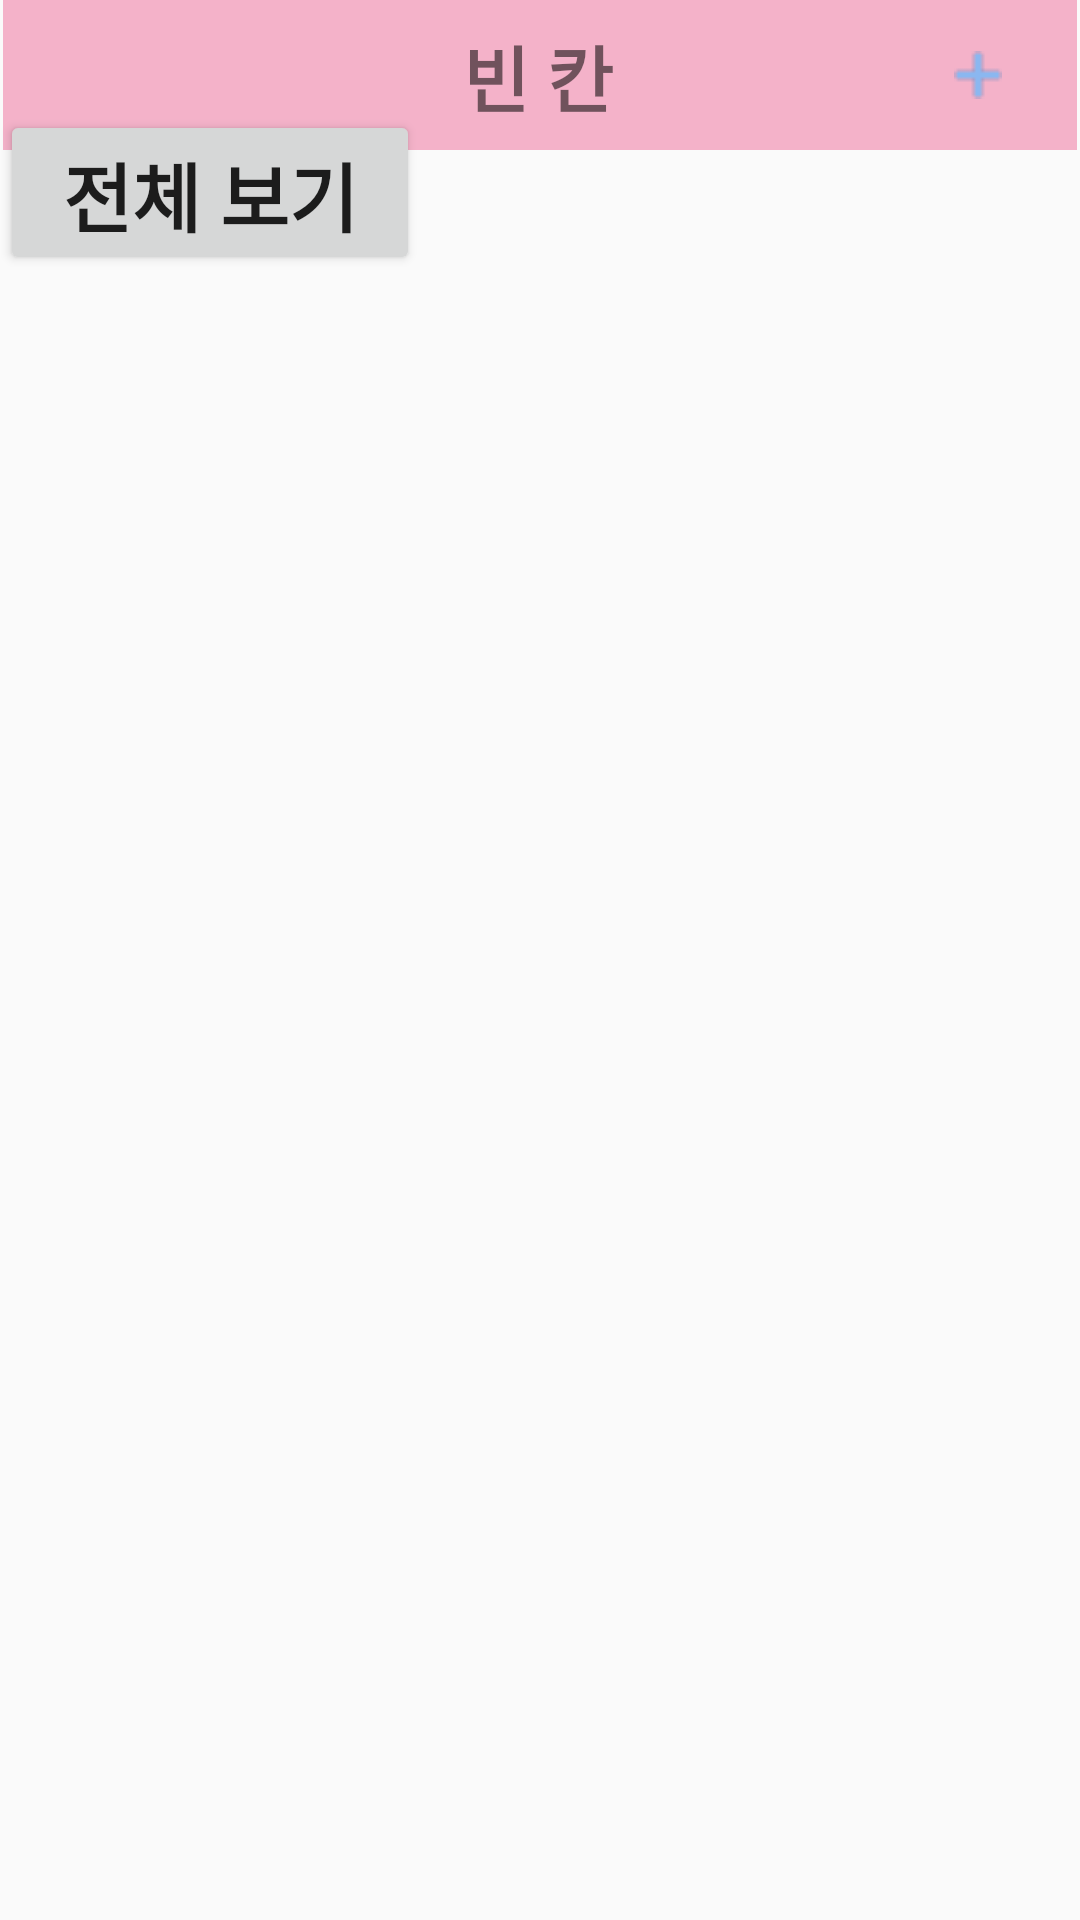

Where icons sit on this 1080 x 1920 app screen, as (x1, y1, x2, y2):
plus skyblue: (954, 51, 1002, 99)
